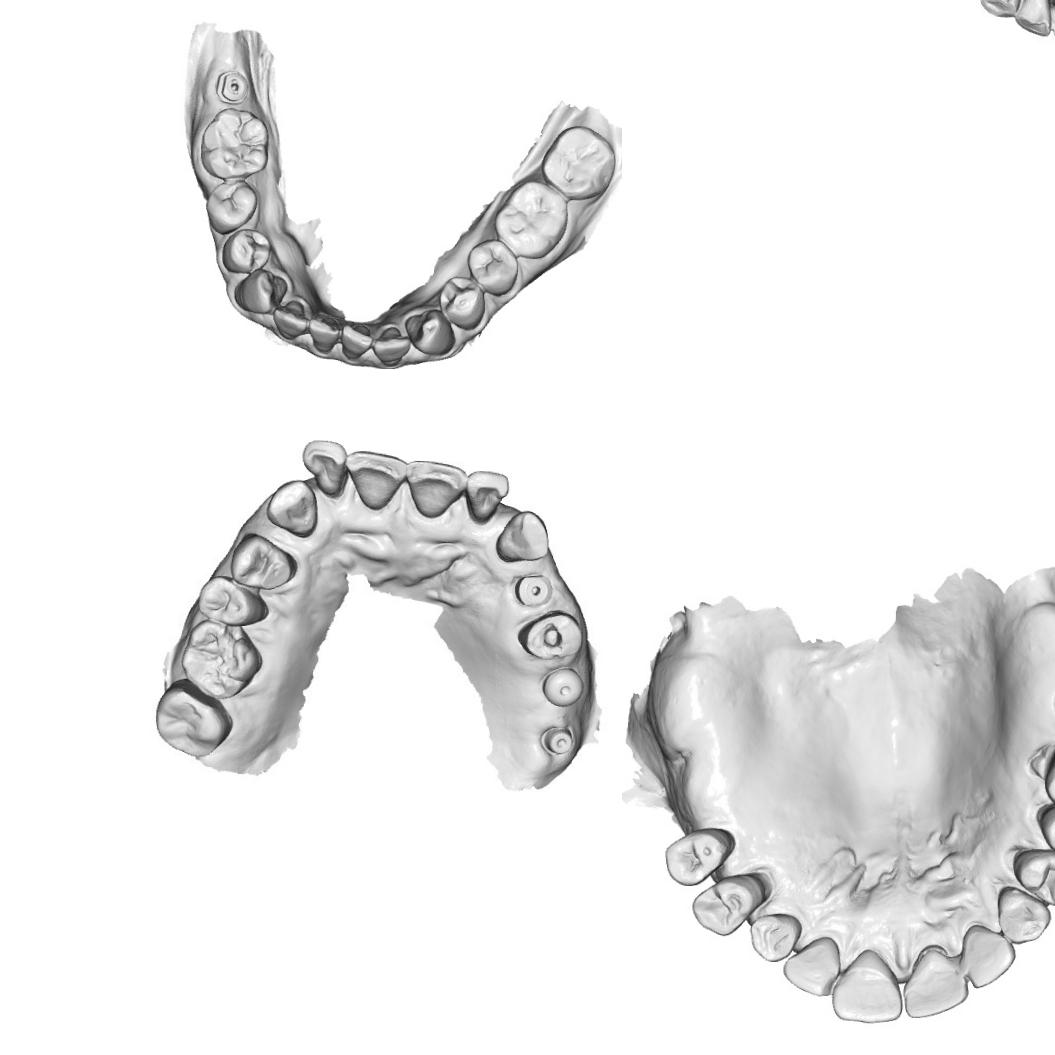canine: (492, 507, 552, 571), (993, 885, 1054, 946), (263, 478, 320, 542), (746, 910, 803, 966), (233, 266, 288, 315), (402, 307, 457, 356), (977, 0, 1020, 19)
implant: (541, 663, 583, 709), (514, 571, 553, 611), (541, 720, 576, 761)
implant_minus: (203, 62, 264, 114)
incisor: (828, 945, 908, 1026), (901, 945, 971, 1021), (780, 933, 843, 999), (405, 456, 468, 520), (346, 447, 408, 511), (960, 923, 1018, 991), (300, 435, 351, 497), (464, 466, 510, 524), (370, 325, 412, 367), (1013, 0, 1055, 38), (271, 300, 308, 340), (306, 312, 340, 354), (339, 322, 374, 360)
molar: (149, 674, 233, 758), (178, 619, 264, 699), (491, 177, 570, 261), (538, 124, 618, 202), (198, 105, 270, 182)
premolar: (689, 870, 761, 939), (662, 824, 737, 890), (195, 574, 272, 632), (232, 530, 297, 594), (516, 610, 584, 662), (204, 178, 260, 236), (465, 237, 519, 297), (1009, 845, 1055, 908), (438, 276, 487, 331), (221, 227, 272, 274), (1035, 802, 1055, 868)
